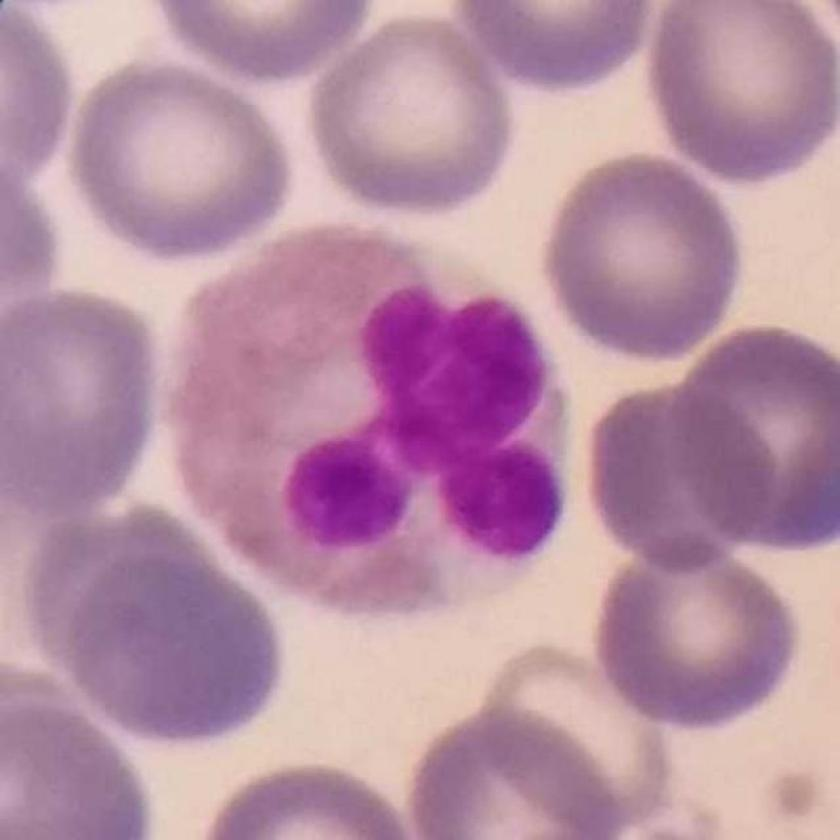eosinophil: (164, 223, 579, 626)
